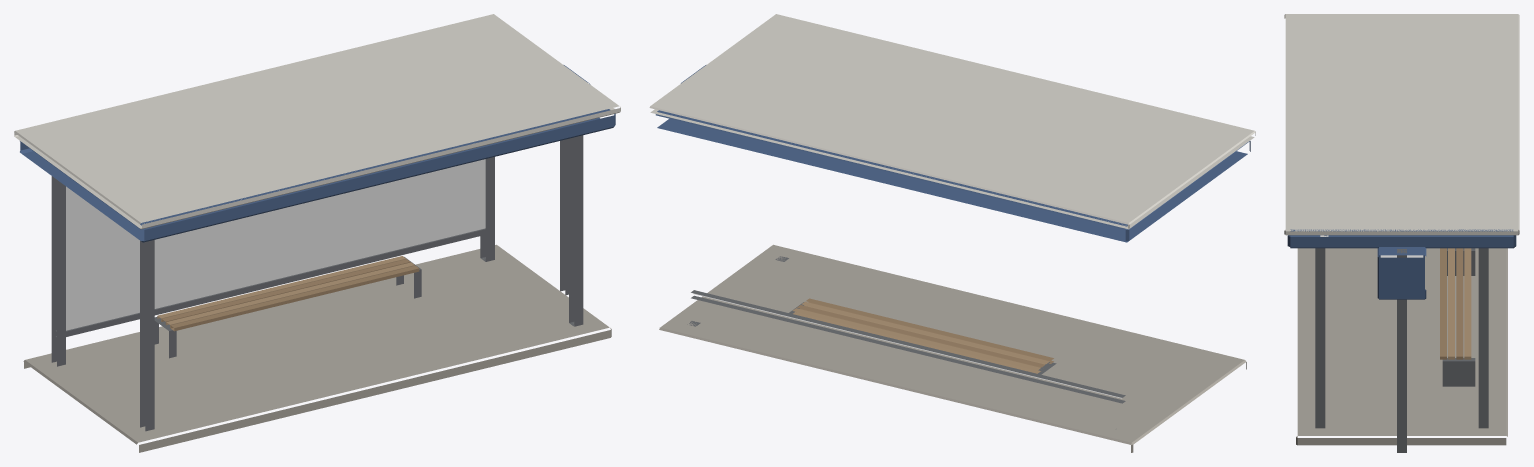
File: bus_shelter.glb
3 renders of one model, left to right at view 1: azimuth 30°, elevation 25°; view 2: azimuth 150°, elevation 25°; view 3: azimuth 270°, elevation 25°, orthographic. The views are drawn at different scales.
Parts seen in each view (by area): view 1: bus_shelter; view 2: bus_shelter; view 3: bus_shelter.
Part boxes in pixels (x1,y1,x2,y2): bus_shelter: (14,14,620,452); bus_shelter: (649,14,1255,452); bus_shelter: (1284,14,1519,452).
Size of the model in its own units: 6.54 by 2.93 by 2.88.
